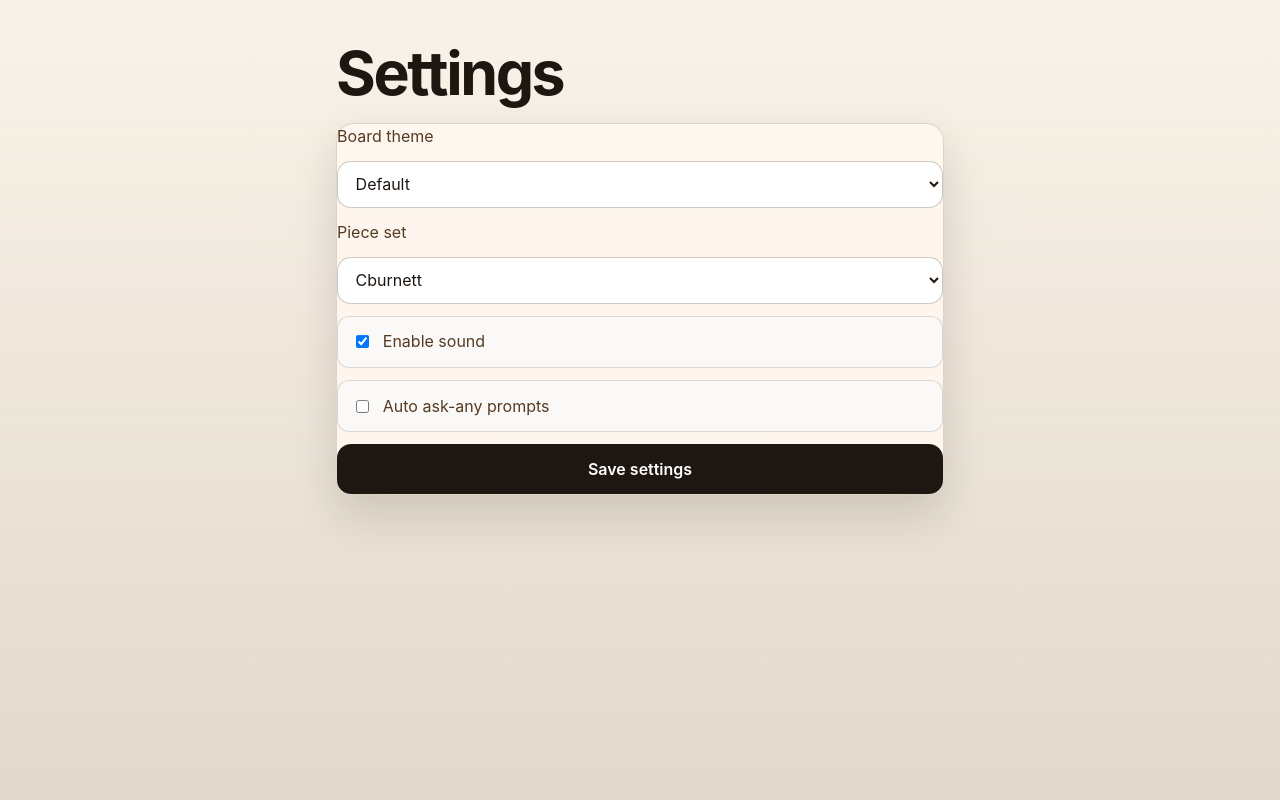
Test: SettingsPage › shows_error_when_save_fails
Expected: the dropdown labelled "Board theme" is shown, [337,161,943,208]
Click the button "Save settings": (640, 469) [337,444,943,494]
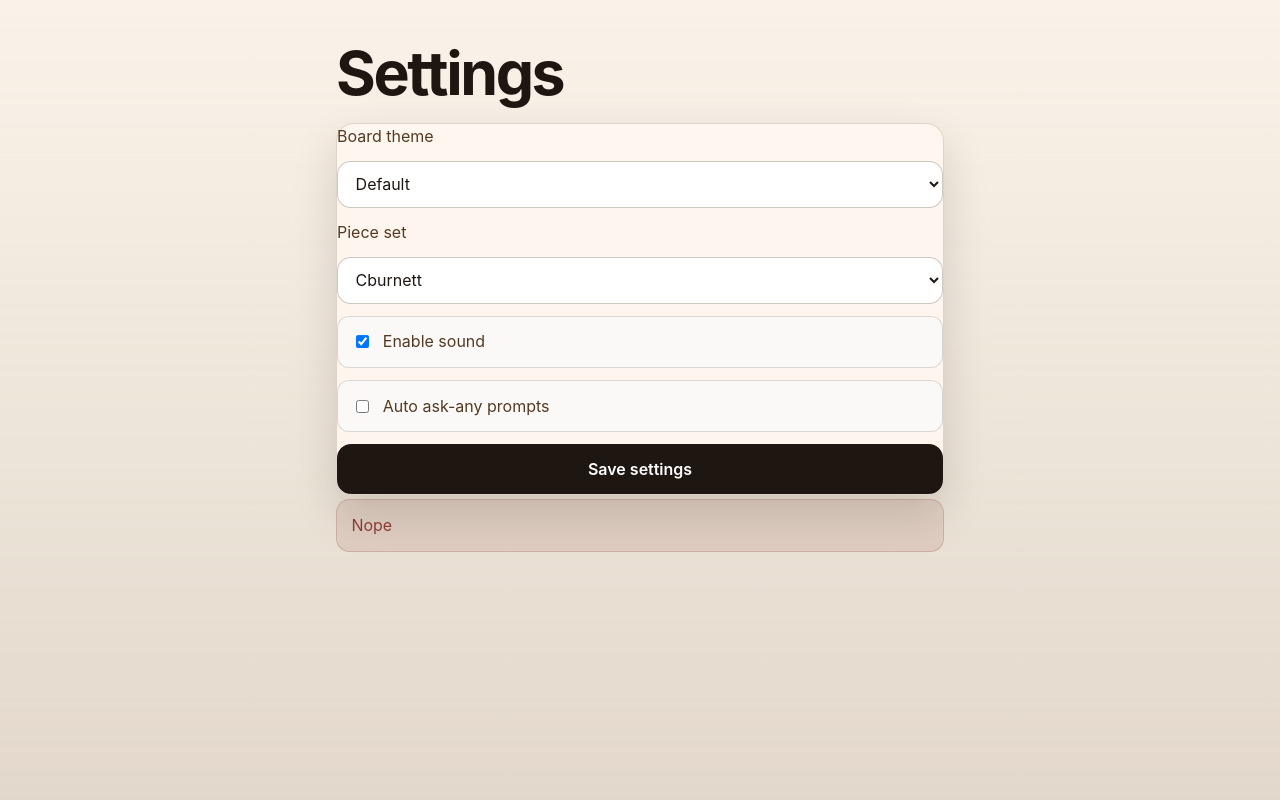
Expected: the message reads "Nope", [351,515,392,535]
